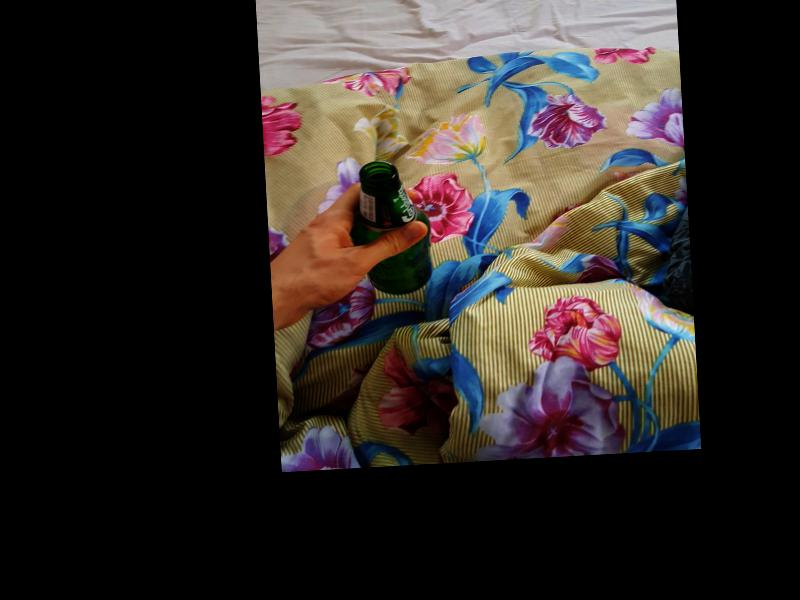Beer: (346, 160, 432, 297)
